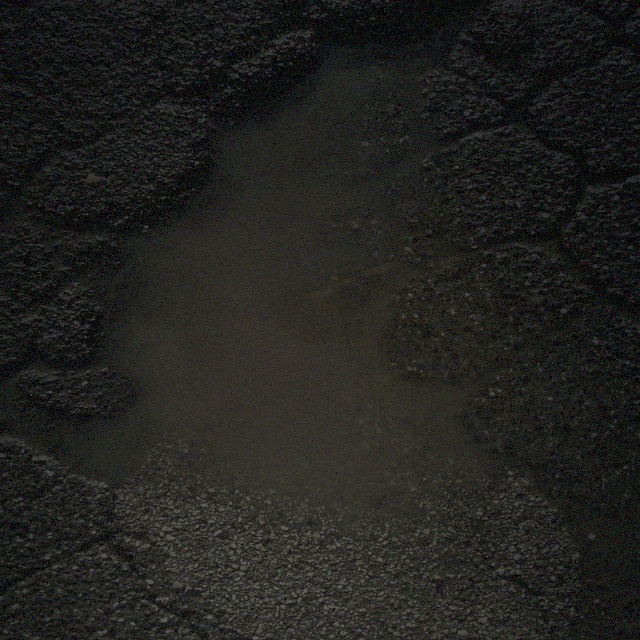pothole: (54, 37, 521, 520)
